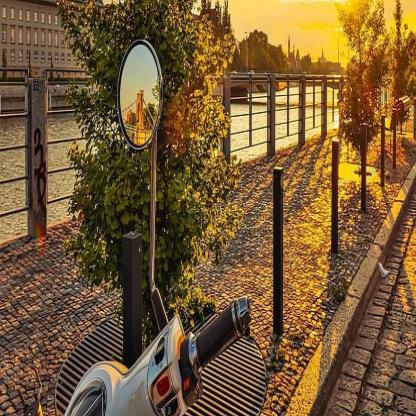other: (320, 19, 363, 189), (137, 122, 152, 146)
